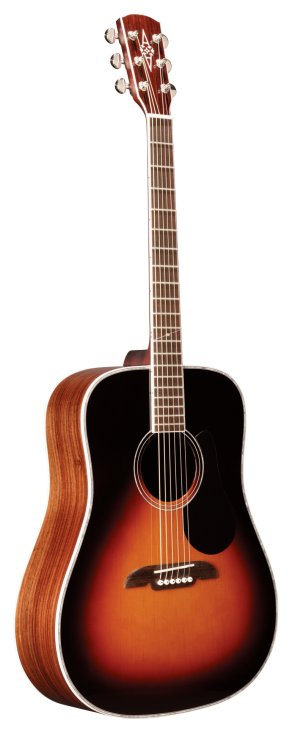guitar: (15, 13, 282, 722)
